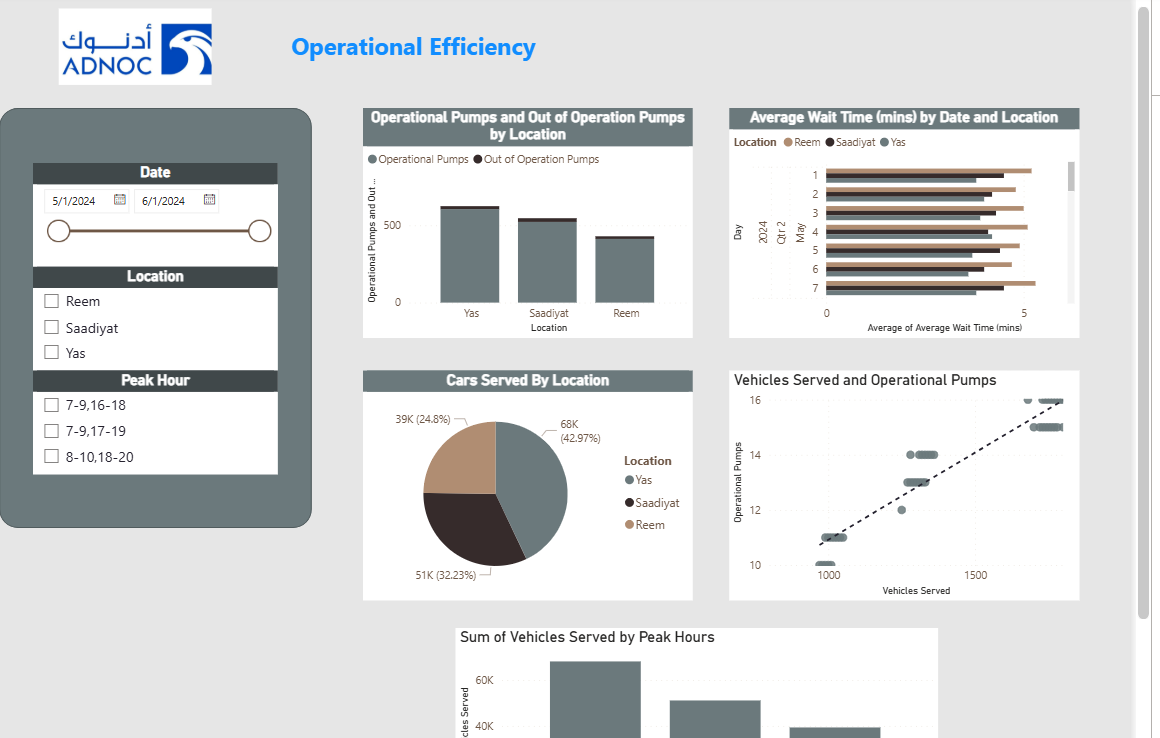

Layout of this report page (visuals, bound fields, positions):
{"tool":"powerbi","page":{"name":"Operational Efficiency","canvas":[1280,1000],"ordinal":2},"visuals":[{"type":"shape","box":[1.4,130,353.3,474.8],"z":0},{"type":"slicer","title":"Date","fields":{"Values":["Sheet1.Date"]},"box":[39.6,192.2,277,117.3],"z":1000},{"type":"slicer","title":"Location","fields":{"Values":["Sheet1.Location"]},"box":[39.6,309.5,277,117.3],"z":2000},{"type":"slicer","title":"Peak Hour","fields":{"Values":["Sheet1.Peak Hours"]},"box":[39.6,426.8,277,117.3],"z":3000},{"type":"image","box":[49.5,12.7,210.6,96.1],"z":4000},{"type":"textbox","box":[326.4,36.7,313.7,72.1],"z":5000},{"type":"columnChart","title":"Operational Pumps and Out of Operation Pumps by Location","fields":{"Y":["Sum(Sheet1.Operational Pumps)","Sum(Sheet1.Out of Operation Pumps)"],"Category":["Sheet1.Location"]},"box":[412.6,130,373.1,260],"z":6000},{"type":"clusteredBarChart","title":"Average Wait Time (mins) by Date and Location","fields":{"Category":["Sheet1.Date.Variation.Date Hierarchy.Year","Sheet1.Date.Variation.Date Hierarchy.Quarter","Sheet1.Date.Variation.Date Hierarchy.Month","Sheet1.Date.Variation.Date Hierarchy.Day"],"Y":["Avg(Sheet1.Average Wait Time (mins))"],"Series":["Sheet1.Location"]},"box":[826.7,130,395.7,260],"z":7000},{"type":"pieChart","title":"Cars Served By Location","fields":{"Category":["Sheet1.Location"],"Y":["Sum(Sheet1.Vehicles Served)"]},"box":[412.6,426.8,373.1,260],"z":8000},{"type":"scatterChart","fields":{"X":["Sheet1.Vehicles Served"],"Y":["Sheet1.Operational Pumps"]},"box":[826.7,426.8,395.7,260],"z":9000},{"type":"clusteredColumnChart","fields":{"Category":["Sheet1.Peak Hours"],"Y":["Sum(Sheet1.Vehicles Served)"]},"box":[517.2,717.9,545.5,254.4],"z":10000}]}

Visuals, with their boxes on the page's 1280x1000 design canvas (x1, y1, x2, y2). These are canvas units, not pixel positions in the 1160x738 screenshot, which may show the page scaled, cropped or inside an application window:
shape: (1,130,355,605)
"Date" slicer: (40,192,317,310)
"Location" slicer: (40,310,317,427)
"Peak Hour" slicer: (40,427,317,544)
image: (50,13,260,109)
textbox: (326,37,640,109)
"Operational Pumps and Out of Operation Pumps by Location" columnChart: (413,130,786,390)
"Average Wait Time (mins) by Date and Location" clusteredBarChart: (827,130,1222,390)
"Cars Served By Location" pieChart: (413,427,786,687)
scatterChart - Sheet1.Vehicles Served x Sheet1.Operational Pumps: (827,427,1222,687)
clusteredColumnChart - Sheet1.Peak Hours x Sum(Sheet1.Vehicles Served): (517,718,1063,972)
